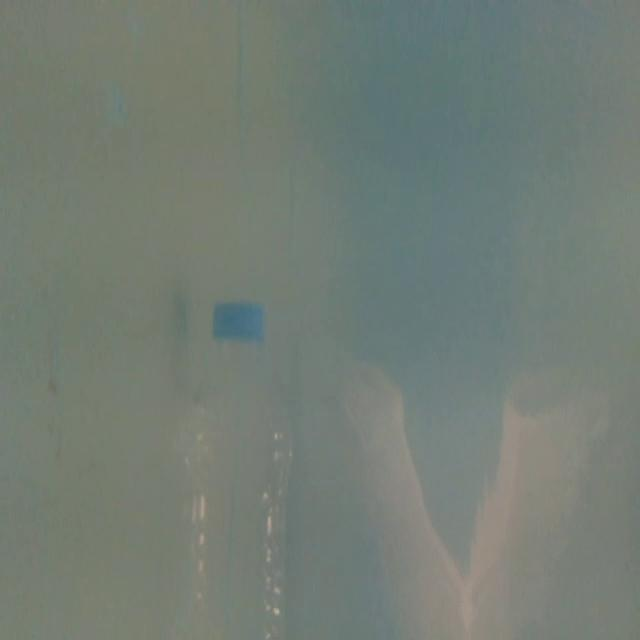plastic bags: (334, 342, 609, 640)
plastic bottle: (175, 297, 303, 640)
